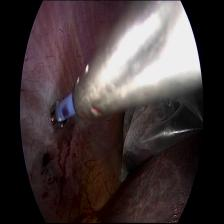Bipolar: (46, 58, 99, 137)
Specimen Bag: (115, 95, 202, 191)
